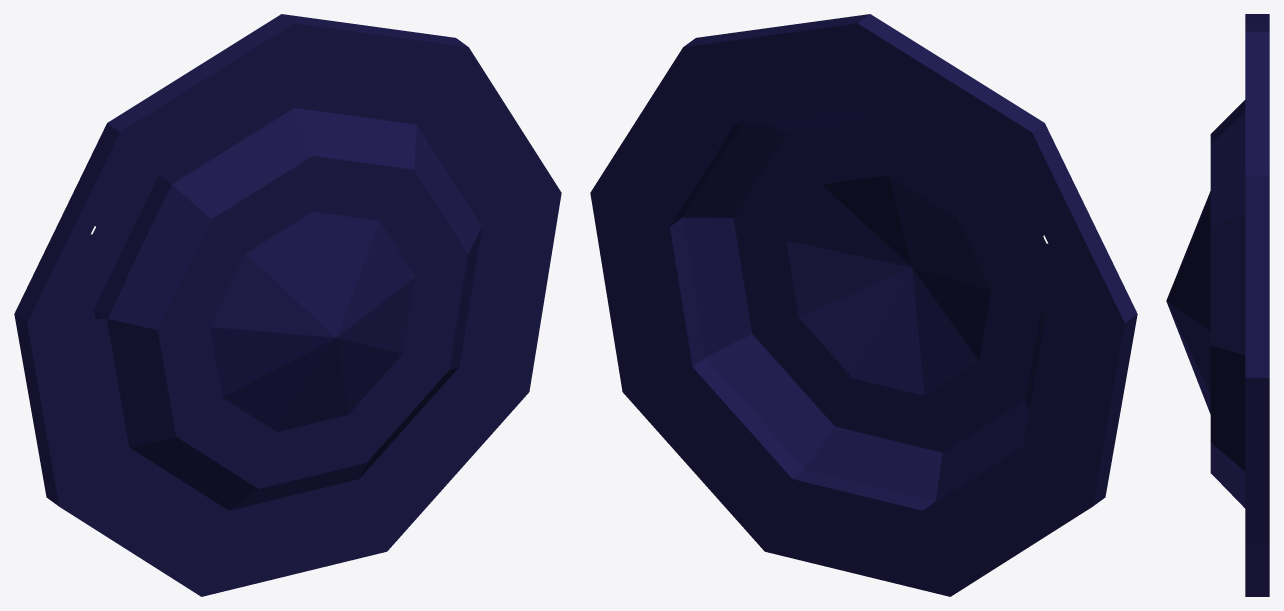
Rendered from enemy1.glb.
The picture shows the model from 3 angles, left to right: view 1: azimuth 30°, elevation 25°; view 2: azimuth 150°, elevation 25°; view 3: azimuth 270°, elevation 25°; orthographic projection. The views are drawn at different scales.
Parts seen in each view (by area): view 1: enemy; view 2: enemy; view 3: enemy.
Part boxes in pixels (x1=…): enemy: x1=14, y1=14, x2=561, y2=596; enemy: x1=590, y1=14, x2=1137, y2=596; enemy: x1=1166, y1=14, x2=1269, y2=596.
Bounding box in the file's own units: 1.97 × 1.94 × 0.3482.
Materials: 1 (1 with a texture image).
